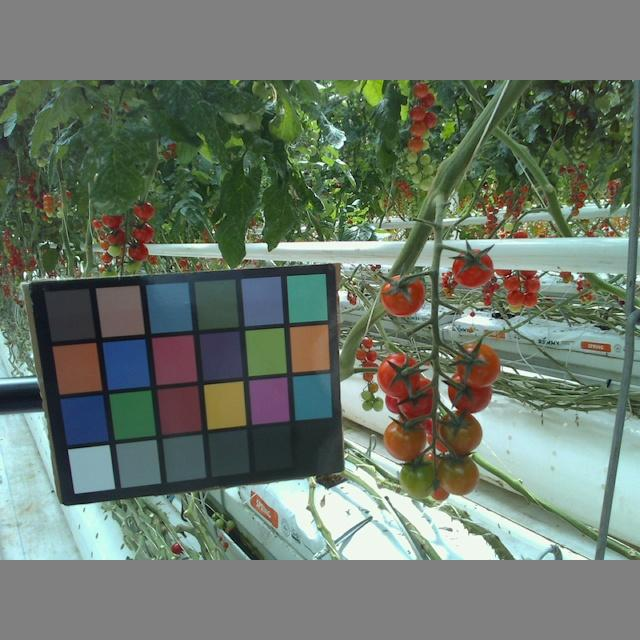green: (397, 455, 441, 501)
pink: (374, 354, 421, 399), (459, 342, 502, 391), (383, 273, 430, 317), (435, 450, 480, 495), (446, 367, 493, 409), (383, 419, 427, 462), (438, 412, 483, 454), (394, 378, 439, 419), (454, 250, 495, 288)
